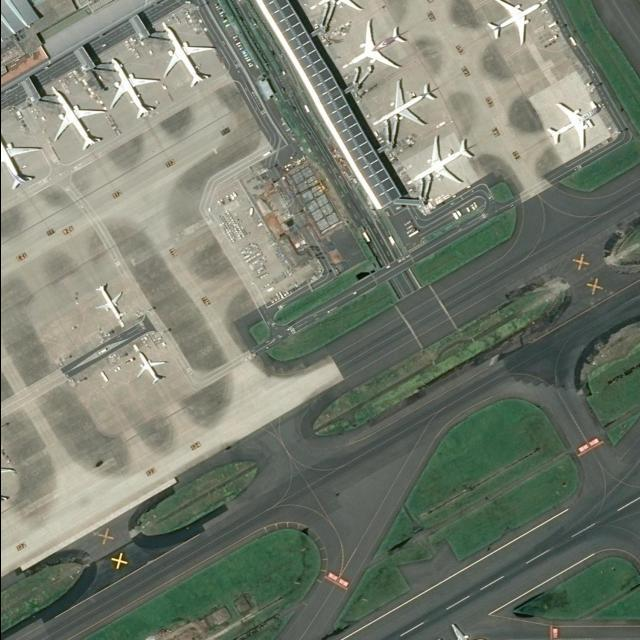Aircraft: (409, 132, 473, 186), (164, 22, 214, 90), (344, 18, 404, 72), (53, 82, 101, 148), (109, 55, 159, 118), (376, 79, 437, 127), (0, 119, 42, 188), (547, 98, 598, 150), (487, 0, 543, 44), (95, 281, 125, 323), (135, 349, 165, 381)
